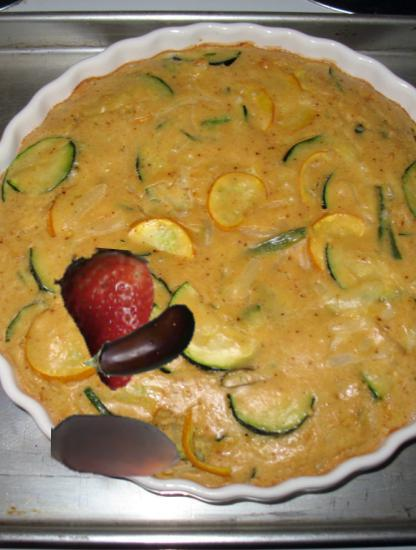Eggplant: (86, 286, 206, 406)
Hazelnut: (51, 380, 184, 513)
Strawberry: (31, 248, 173, 390)
